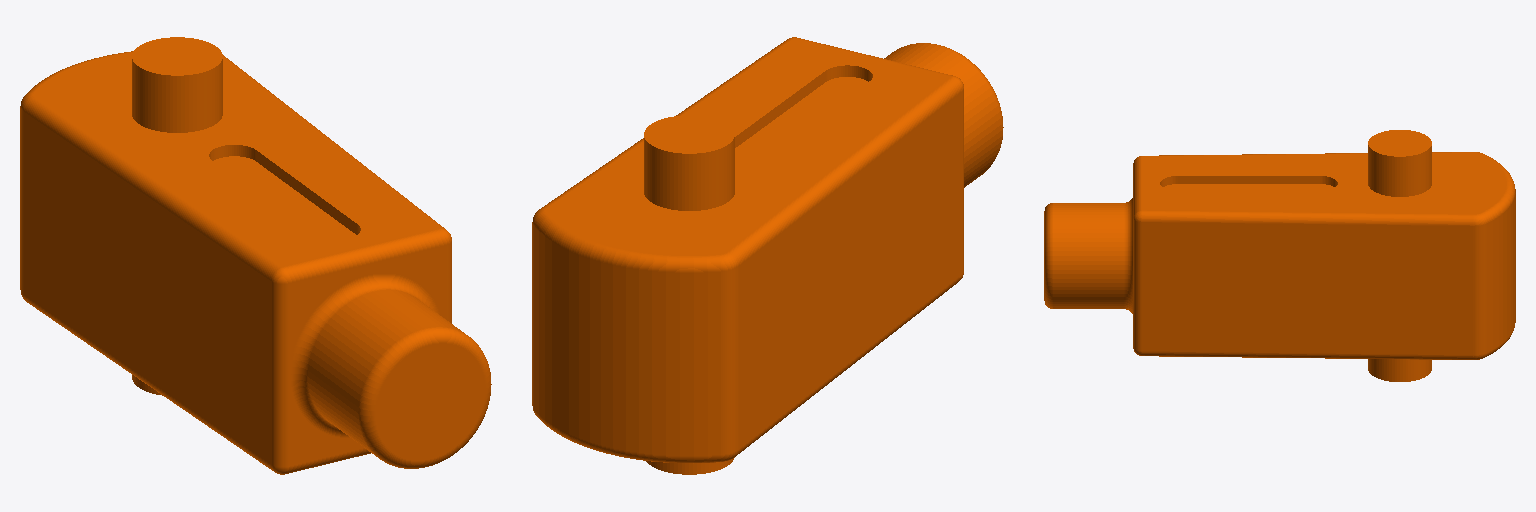
robot.urdf — manipulator:
<?xml version="1.0" ?>
<!-- Generated using onshape-to-robot -->
<!-- Onshape document_id: d485fa036fcc5871de520c55 / workspace_id: eac92d410471422b33a22f85 -->
<robot name="manipulator">
  <!-- Link link_1 -->
  <link name="link_1">
    <inertial>
      <origin xyz="-4.11992e-17 -0.331124 -4.82139e-17" rpy="0 0 0"/>
      <mass value="18.0382"/>
      <inertia ixx="0.201986" ixy="0" ixz="5.19931e-10" iyy="0.310803" iyz="0" izz="0.201986"/>
    </inertial>
    <!-- Part link_1 -->
    <visual>
      <origin xyz="0 0 0" rpy="0 -0 0"/>
      <geometry>
        <mesh filename="package://manipulator_urdf/meshes/assets/link_1.stl"/>
      </geometry>
      <material name="link_1_material">
        <color rgba="0.909804 0.443137 0.0313725 1.0"/>
      </material>
    </visual>
    <collision>
      <origin xyz="0 0 0" rpy="0 -0 0"/>
      <geometry>
        <mesh filename="package://manipulator_urdf/meshes/assets/link_1.stl"/>
      </geometry>
    </collision>
  </link>
  <!-- Link link_2 -->
  <link name="link_2">
    <inertial>
      <origin xyz="0 3.36307e-17 -0.148328" rpy="0 0 0"/>
      <mass value="1.90385"/>
      <inertia ixx="0.01011" ixy="0" ixz="5.76378e-50" iyy="0.0098791" iyz="0" izz="0.00243136"/>
    </inertial>
    <!-- Part link_2 -->
    <visual>
      <origin xyz="-0.4 -6.93889e-18 -0.55" rpy="1.5708 1.5708 0"/>
      <geometry>
        <mesh filename="package://manipulator_urdf/meshes/assets/link_2.stl"/>
      </geometry>
      <material name="link_2_material">
        <color rgba="0.909804 0.443137 0.0313725 1.0"/>
      </material>
    </visual>
    <collision>
      <origin xyz="-0.4 -6.93889e-18 -0.55" rpy="1.5708 1.5708 0"/>
      <geometry>
        <mesh filename="package://manipulator_urdf/meshes/assets/link_2.stl"/>
      </geometry>
    </collision>
  </link>
  <!-- Joint from link_1 to link_2 -->
  <joint name="joint_12" type="revolute">
    <origin xyz="0 -0.19 2.46519e-32" rpy="1.5708 -6.12934e-32 1.20676e-16"/>
    <parent link="link_1"/>
    <child link="link_2"/>
    <axis xyz="0 0 1"/>
    <limit effort="10" velocity="10" lower="-3.141592653589793" upper="3.141592653589793"/>
  </joint>
</robot>

--- Render facts (derived) ---
Views: 3 orthographic renders of the robot side by side, from view 1: azimuth 30°, elevation 25°; view 2: azimuth 150°, elevation 25°; view 3: azimuth 270°, elevation 25°.
Robot: manipulator — 2 links, 1 joints (1 revolute); root link link_1; default pose: all joints at 0.
Visible links, largest first — view 1: link_2; view 2: link_2; view 3: link_2.
Link boxes in pixels (left/top/right/bottom): link_2: left=20, top=37, right=491, bottom=474; link_2: left=532, top=37, right=1003, bottom=474; link_2: left=1044, top=130, right=1515, bottom=381.
Size in the robot's own frame: 0.0924 by 0.2649 by 0.14 metres.
1 mesh visuals loaded from 2 distinct referenced files (1 binary STL); not drawn: 1 (reference not matched to a file when rendering).